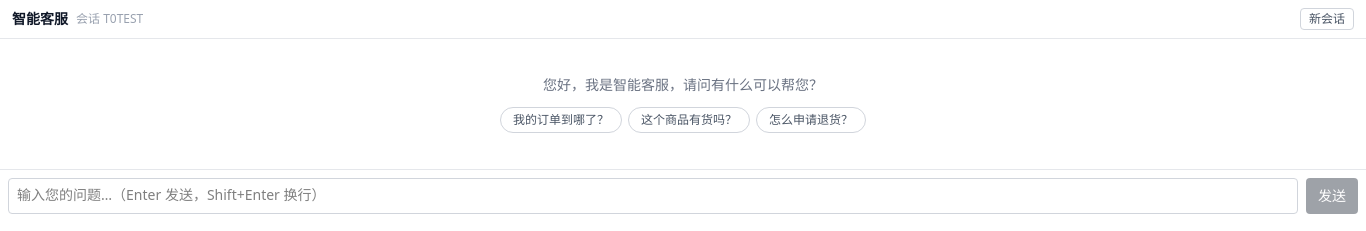
Test: SupportPanel › finish 的快捷动作渲染为按钮/链接
Type "hi" into the text box with placeholder "输入您的问题…（Enter 发送，Shift+Enter 换行）". click: (653, 196)
box: top-left (8, 178), bottom-right (1298, 214)
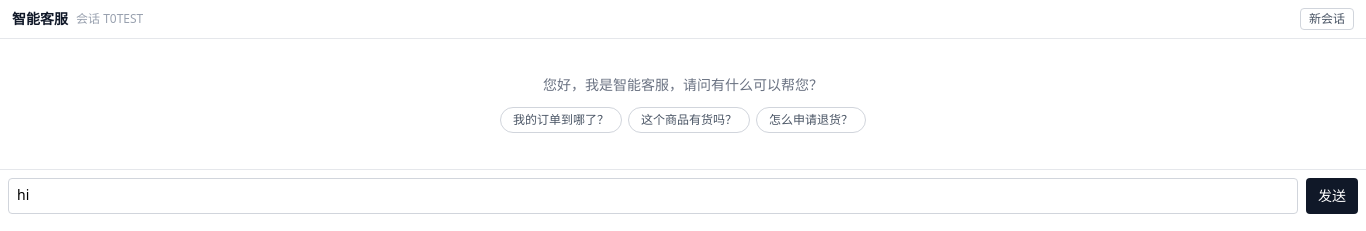
Click the button "发送". click: click(1332, 196)
box: top-left (1306, 178), bottom-right (1358, 214)
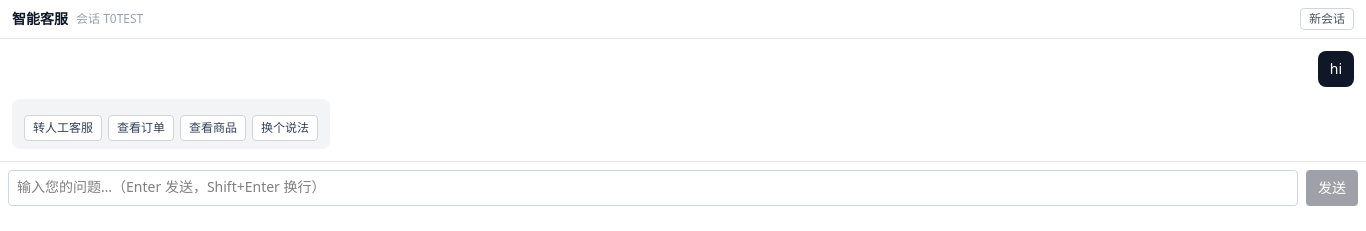
Check: the button "转人工客服" is shown, box top-left (24, 115), bottom-right (102, 141)
Check: the link "查看订单" is shown, box top-left (108, 115), bottom-right (174, 141)
Check: the link "查看商品" is shown, box top-left (180, 115), bottom-right (246, 141)
